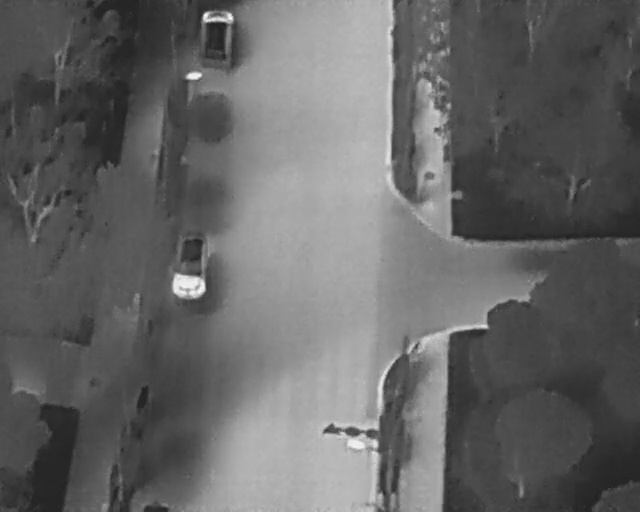Car: (170, 229, 209, 299), (197, 9, 236, 70)
